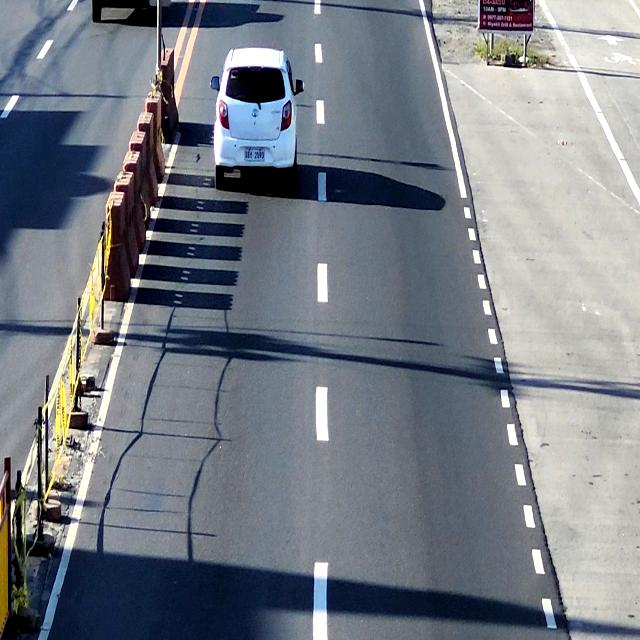Car: (215, 44, 301, 198)
License-Plate: (240, 146, 268, 162)
